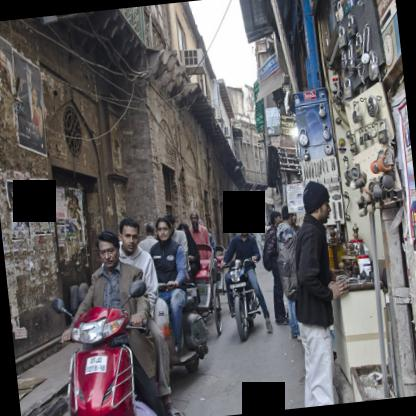backpack: (278, 234, 298, 300), (262, 234, 272, 271)
